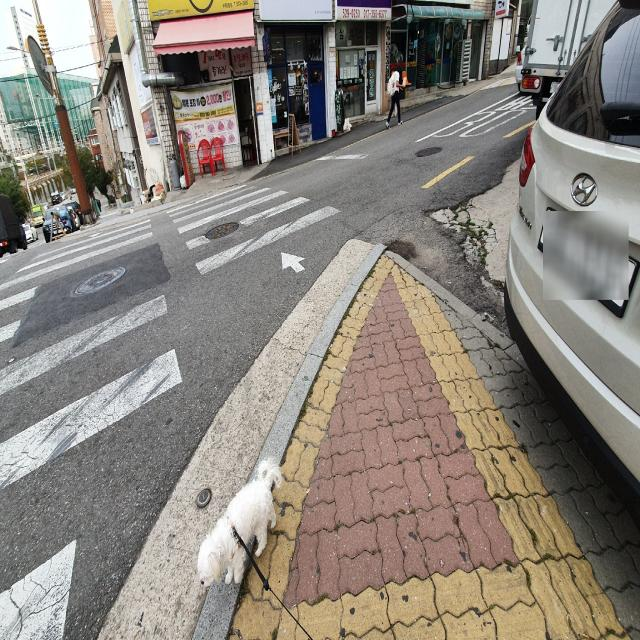횡단보도: (1, 176, 345, 638)
